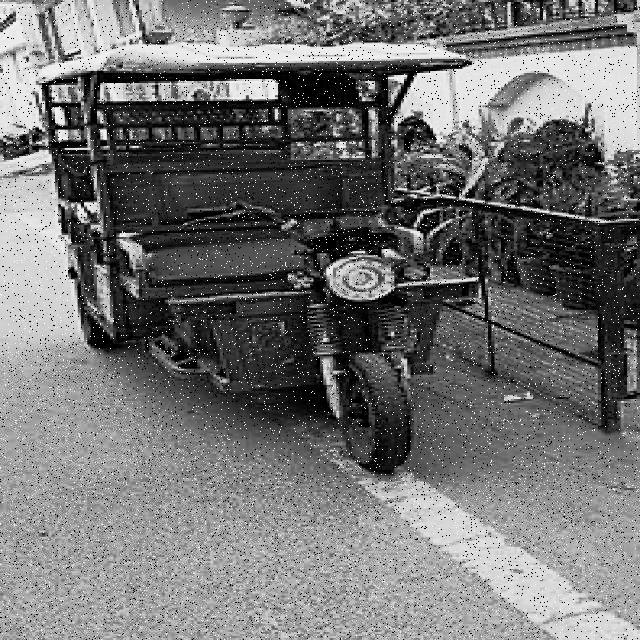Toto: (39, 29, 461, 472)
